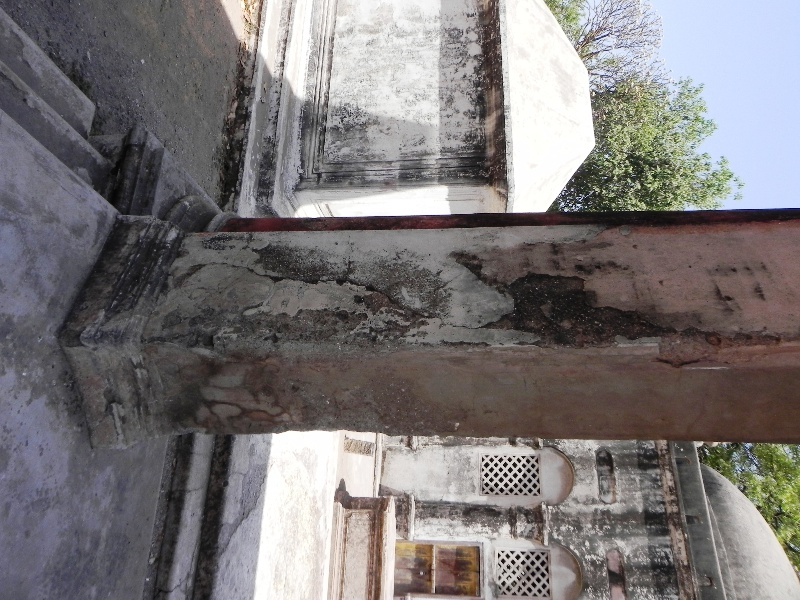Crack: (272, 272, 434, 316)
Spalling: (493, 265, 674, 347)
